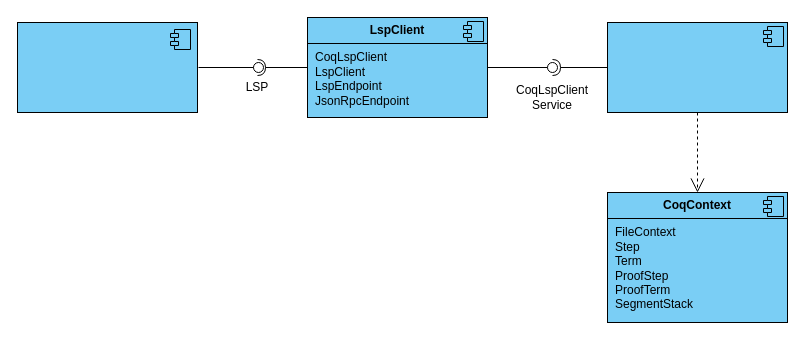
Image size: 805x340. Some labels were removed from this diagram. Here are the shapes that lost their labels. From the top down, the centre of each, then its label:
At pixel 107 67: "Rocq-lsp".
At pixel 697 67: "CoqPyt CoqFile ProofFile _AuxFile".
